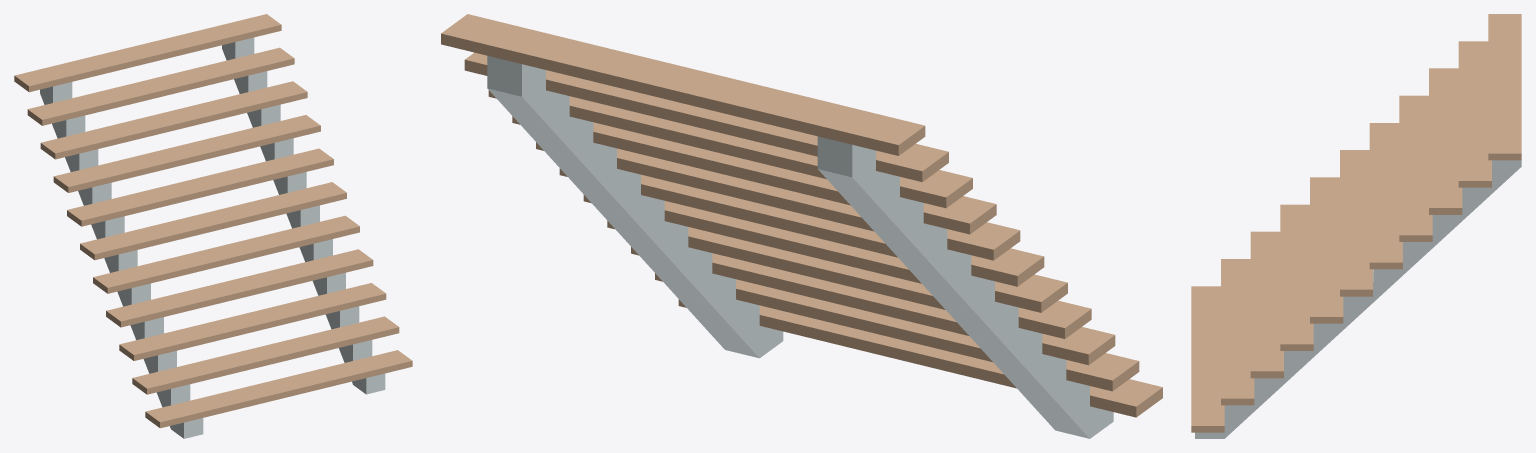
File: kn-stairs-open.glb
3 views of the same model, side by side, from view 1: azimuth 30°, elevation 25°; view 2: azimuth 150°, elevation 25°; view 3: azimuth 270°, elevation 25° (orthographic). The views are drawn at different scales.
Parts seen in each view (by area): view 1: stairsOpen(Clone), Group; view 2: stairsOpen(Clone), Group; view 3: stairsOpen(Clone), Group.
Part boxes in pixels (x1=…): stairsOpen(Clone): x1=14, y1=14, x2=412, y2=428; Group: x1=40, y1=37, x2=385, y2=438; stairsOpen(Clone): x1=441, y1=14, x2=1162, y2=417; Group: x1=487, y1=56, x2=1113, y2=438; stairsOpen(Clone): x1=1191, y1=14, x2=1521, y2=432; Group: x1=1195, y1=160, x2=1521, y2=438.
Size of the model in its own units: 1 by 1 by 1.
